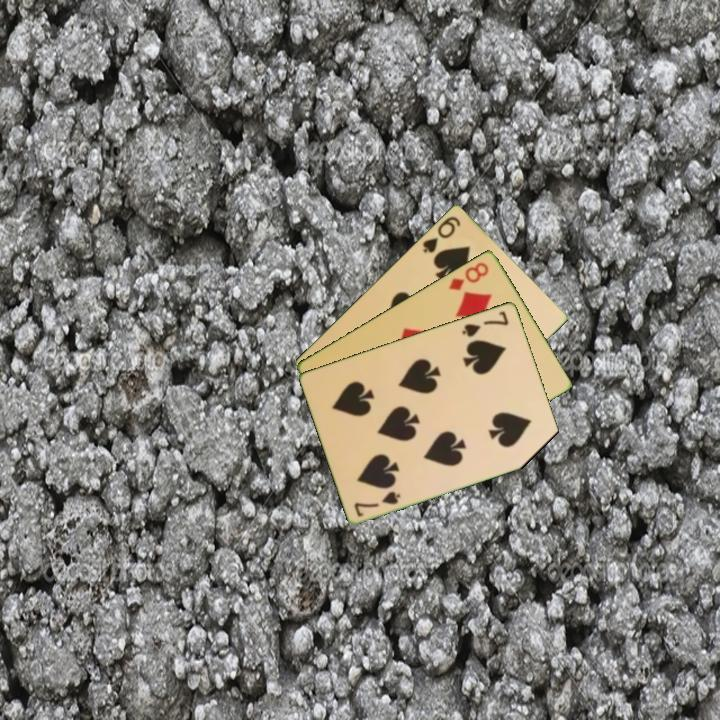6s: (419, 212, 463, 256)
7s: (458, 307, 512, 340), (351, 487, 403, 519)
8d: (445, 258, 492, 293)
